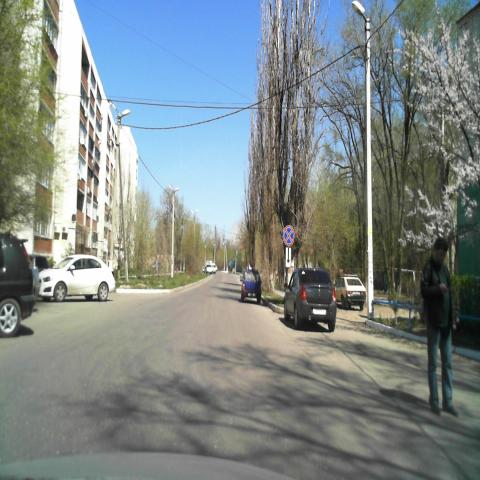8_2_3: (285, 248, 292, 270)
